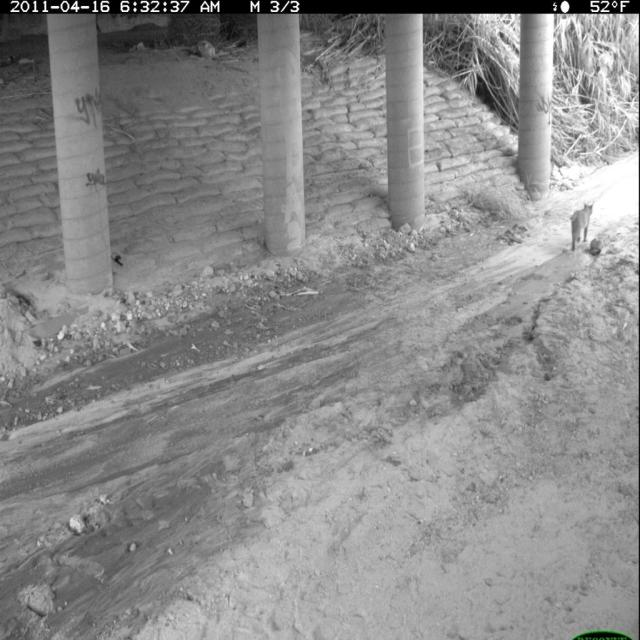bobcat: (568, 200, 596, 253)
